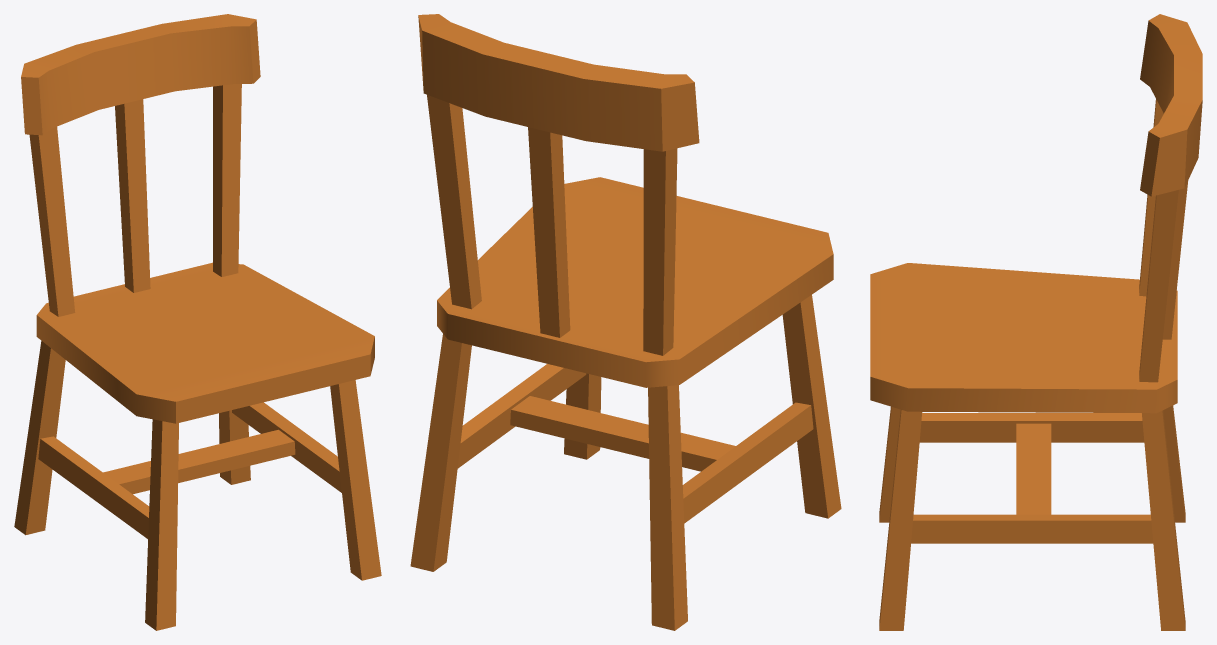
Rendered from SM_Chair.fbx.
The picture shows the model from 3 angles, left to right: view 1: azimuth 30°, elevation 25°; view 2: azimuth 150°, elevation 25°; view 3: azimuth 270°, elevation 25°; orthographic projection. The views are drawn at different scales.
Visible parts, largest first — view 1: SM_Chair; view 2: SM_Chair; view 3: SM_Chair.
Boxes of the visible parts, x1=… form: SM_Chair: x1=14, y1=14, x2=381, y2=630; SM_Chair: x1=410, y1=14, x2=841, y2=630; SM_Chair: x1=870, y1=14, x2=1202, y2=630.
Bounding box in the file's own units: 57.85 × 107 × 64.87.
